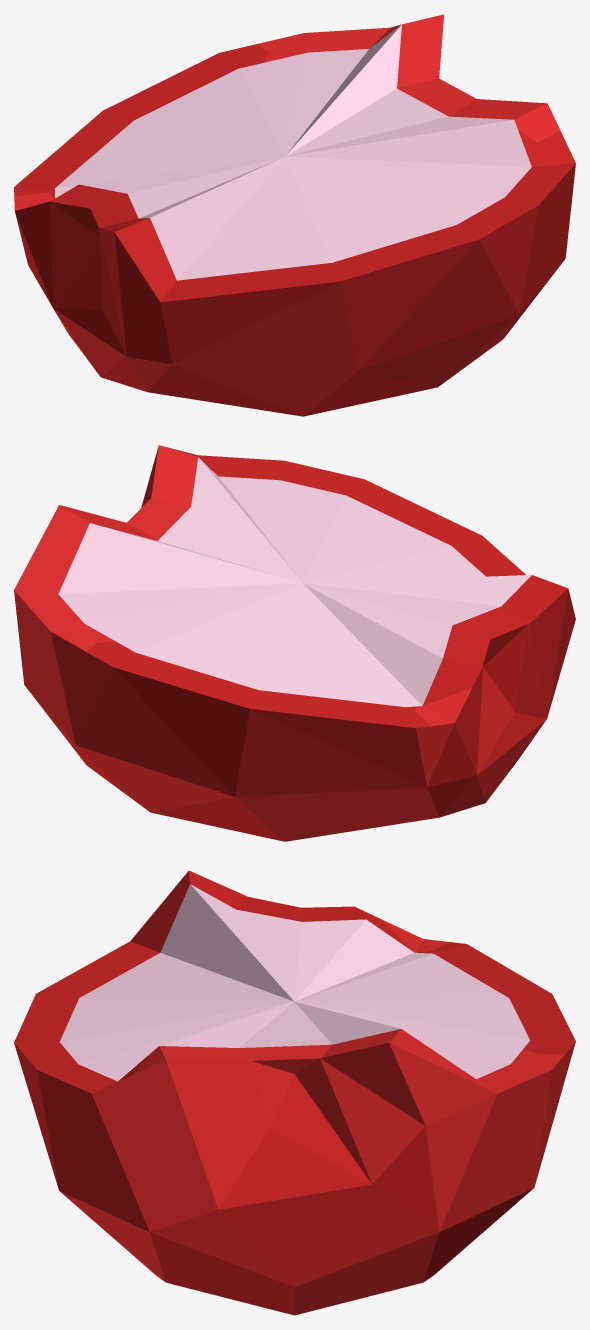
Rendered from mesh_apple_half.fbx.
3 renders of one model, top to bottom at view 1: azimuth 30°, elevation 25°; view 2: azimuth 150°, elevation 25°; view 3: azimuth 270°, elevation 25°, orthographic. The views are drawn at different scales.
Parts seen in each view (by area): view 1: mesh_apple_half; view 2: mesh_apple_half; view 3: mesh_apple_half.
Boxes of the visible parts, box(x1,y1,x2,y2) form: mesh_apple_half: box(14, 14, 575, 416); mesh_apple_half: box(14, 445, 575, 841); mesh_apple_half: box(14, 870, 575, 1315).
Size of the model in its own units: 0.2166 by 0.1401 by 0.2194.
